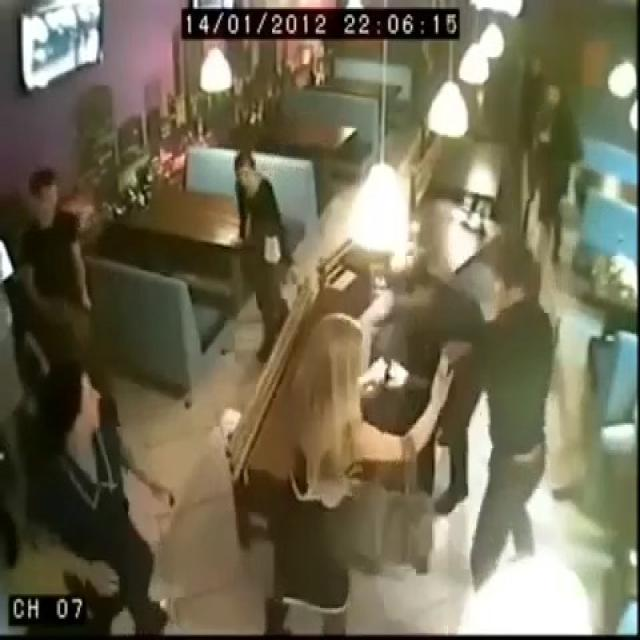fight: (396, 196, 506, 446)
